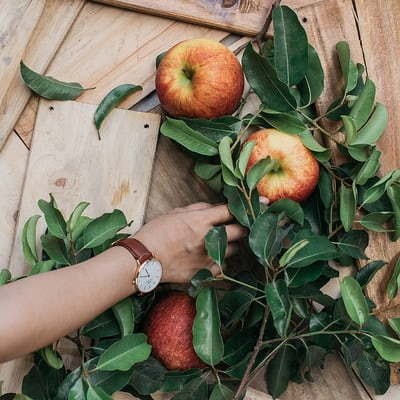apple: (148, 32, 246, 123), (229, 127, 320, 209), (136, 290, 219, 377)
